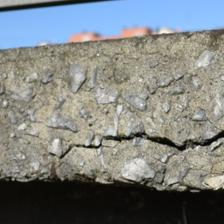Crack: (29, 62, 195, 104)
